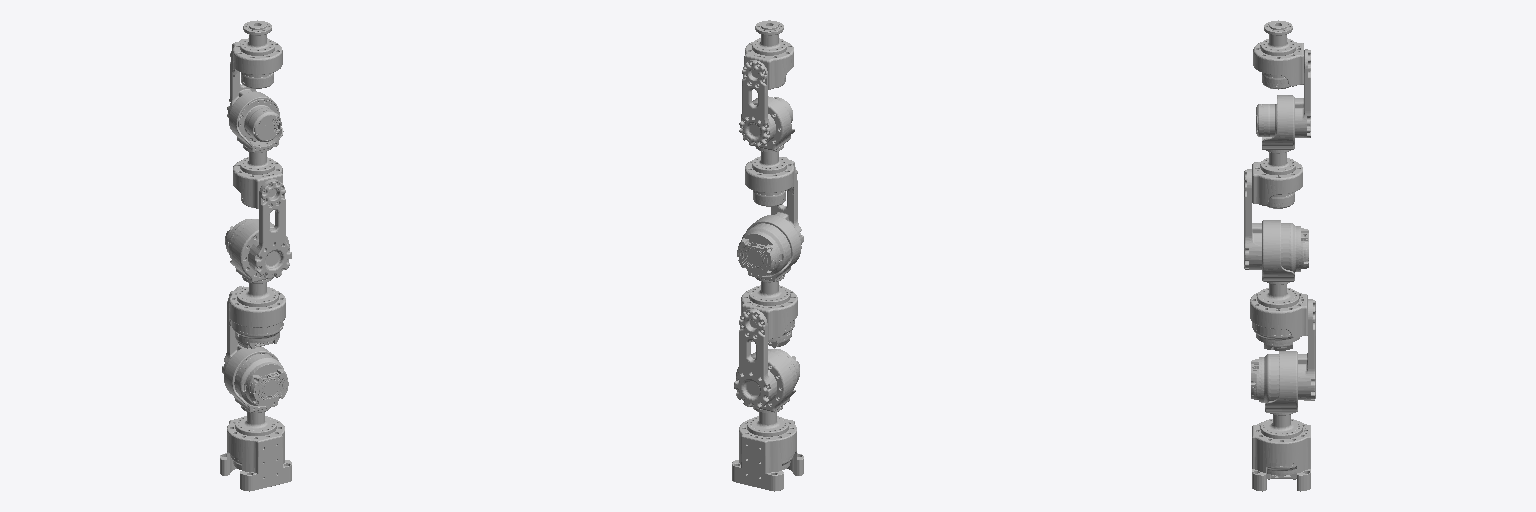
The robot description file, URDF, robot "v73":
<?xml version="1.0" encoding="utf-8"?>
<!-- This URDF was automatically created by SolidWorks to URDF Exporter! Originally created by [author] ([email redacted]) 
     Commit Version: 1.6.0-1-g15f4949  Build Version: 1.6.7594.29634
     For more information, please see http://wiki.ros.org/sw_urdf_exporter -->
<robot
  name="v73">
  <link
    name="base_link">
    <inertial>
      <origin
        xyz="-6.81488676239284E-08 -2.52771949068807E-05 0.0421574765285959"
        rpy="0 0 0" />
      <mass
        value="0.126528900342696" />
      <inertia
        ixx="0.00023645920808511"
        ixy="-2.96508255106793E-10"
        ixz="4.22447214171758E-12"
        iyy="0.000186038701581783"
        iyz="1.18684222600256E-07"
        izz="0.000248653814949551" />
    </inertial>
    <visual>
      <origin
        xyz="0 0 0"
        rpy="0 0 0" />
      <geometry>
        <mesh
          filename="package://v73/meshes/base_link.STL" />
      </geometry>
      <material
        name="">
        <color
          rgba="0.752941176470588 0.752941176470588 0.752941176470588 1" />
      </material>
    </visual>
    <collision>
      <origin
        xyz="0 0 0"
        rpy="0 0 0" />
      <geometry>
        <mesh
          filename="package://v73/meshes/base_link.STL" />
      </geometry>
    </collision>
  </link>
  <link
    name="1_Link">
    <inertial>
      <origin
        xyz=" -0.0000   -0.0034    0.0773"
        rpy="0 0 0" />
      <mass
        value="1.2186" />
      <inertia
        ixx="  0.0013"
        ixy="     0.0000"
        ixz="    -0.0000"
        iyy="     0.0014"
        iyz="    -0.0007"
        izz="     0.0009"/>
    </inertial>
    <visual>
      <origin
        xyz="0 0 0"
        rpy="0 0 0" />
      <geometry>
        <mesh
          filename="package://v73/meshes/j1_Link.STL" />
      </geometry>
      <material
        name="">
        <color
          rgba="0.752941176470588 0.752941176470588 0.752941176470588 1" />
      </material>
    </visual>
    <collision>
      <origin
        xyz="0 0 0"
        rpy="0 0 0" />
      <geometry>
        <mesh
          filename="package://v73/meshes/j1_Link.STL" />
      </geometry>
    </collision>
  </link>
  <joint
    name="1_name"
    type="continuous">
    <origin
      xyz="0 0 0.08450000000001"
      rpy="0 0 0" />
    <parent
      link="base_link" />
    <child
      link="1_Link" />
    <axis
      xyz="0 0 1" />
  </joint>
  <link
    name="2_Link">
    <inertial>
      <origin
        xyz="-0.0000   -0.0220    0.0920"
        rpy="0 0 0" />
      <mass
        value="1.3974" />
      <inertia
        ixx="0.0031"
        ixy="    0.0000"
        ixz="   -0.0000"
        iyy="    0.0026"
        iyz="   -0.0064"
        izz="    0.0015"/>
    </inertial>
    <visual>
      <origin
        xyz="0 0 0"
        rpy="0 0 0" />
      <geometry>
        <mesh
          filename="package://v73/meshes/j2_Link.STL" />
      </geometry>
      <material
        name="">
        <color
          rgba="0.752941176470588 0.752941176470588 0.752941176470588 1" />
      </material>
    </visual>
    <collision>
      <origin
        xyz="0 0 0"
        rpy="0 0 0" />
      <geometry>
        <mesh
          filename="package://v73/meshes/j2_Link.STL" />
      </geometry>
    </collision>
  </link>
  <joint
    name="2_name"
    type="continuous">
    <origin
      xyz="0 0.02750000000001 0.08399999999909"
      rpy="0 0 0" />
    <parent
      link="1_Link" />
    <child
      link="2_Link" />
    <axis
      xyz="0 1 0" />
  </joint>
  <link
    name="3_Link">
    <inertial>
      <origin
        xyz="-0.0000    0.0034    0.0776"
        rpy="0 0 0" />
      <mass
        value="1.2186" />
      <inertia
        ixx=" 0.0013"
        ixy="   -0.0000"
        ixz="   -0.0000"
        iyy="    0.0014"
        iyz="    0.0007"
        izz="    0.0009"/>
    </inertial>
    <visual>
      <origin
        xyz="0 0 0"
        rpy="0 0 0" />
      <geometry>
        <mesh
          filename="package://v73/meshes/j3_Link.STL" />
      </geometry>
      <material
        name="">
        <color
          rgba="0.752941176470588 0.752941176470588 0.752941176470588 1" />
      </material>
    </visual>
    <collision>
      <origin
        xyz="0 0 0"
        rpy="0 0 0" />
      <geometry>
        <mesh
          filename="package://v73/meshes/j3_Link.STL" />
      </geometry>
    </collision>
  </link>
  <joint
    name="3_name"
    type="continuous">
    <origin
      xyz="0 -0.0325 0.1375000000001"
      rpy="0 0 0" />
    <parent
      link="2_Link" />
    <child
      link="3_Link" />
    <axis
      xyz="0 0 1" />
  </joint>
  <link
    name="4_Link">
    <inertial>
      <origin
        xyz=" 0.0000   -0.0145    0.0918"
        rpy="0 0 0" />
      <mass
        value="0.9495" />
      <inertia
        ixx=" 0.0025"
        ixy="   -0.0000"
        ixz="    0.0000"
        iyy="    0.0022"
        iyz="   -0.0032"
        izz="    0.0008"/>
    </inertial>
    <visual>
      <origin
        xyz="0 0 0"
        rpy="0 0 0" />
      <geometry>
        <mesh
          filename="package://v73/meshes/j4_Link.STL" />
      </geometry>
      <material
        name="">
        <color
          rgba="0.752941176470588 0.752941176470588 0.752941176470588 1" />
      </material>
    </visual>
    <collision>
      <origin
        xyz="0 0 0"
        rpy="0 0 0" />
      <geometry>
        <mesh
          filename="package://v73/meshes/j4_Link.STL" />
      </geometry>
    </collision>
  </link>
  <joint
    name="4_name"
    type="continuous">
    <origin
      xyz="0 -0.0275000000002227 0.0839999999998857"
      rpy="0 0 0" />
    <parent
      link="3_Link" />
    <child
      link="4_Link" />
    <axis
      xyz="0 -1 0" />
  </joint>
  <link
    name="5_Link">
    <inertial>
      <origin
        xyz=" 0.0000    0.0029    0.0702"
        rpy="0 0 0" />
      <mass
        value="0.7731" />
      <inertia
        ixx="0.6862e-03"
        ixy="   -0.0007e-03"
        ixz="    0.0046e-03"
        iyy="    0.7288e-03"
        iyz="    0.3396e-03"
        izz="    0.3928e-03"/>
    </inertial>
    <visual>
      <origin
        xyz="0 0 0"
        rpy="0 0 0" />
      <geometry>
        <mesh
          filename="package://v73/meshes/j5_Link.STL" />
      </geometry>
      <material
        name="">
        <color
          rgba="0.752941176470588 0.752941176470588 0.752941176470588 1" />
      </material>
    </visual>
    <collision>
      <origin
        xyz="0 0 0"
        rpy="0 0 0" />
      <geometry>
        <mesh
          filename="package://v73/meshes/j5_Link.STL" />
      </geometry>
    </collision>
  </link>
  <joint
    name="5_name"
    type="continuous">
    <origin
      xyz="0 0.0275000000001797 0.138996210594914"
      rpy="0 0 0" />
    <parent
      link="4_Link" />
    <child
      link="5_Link" />
    <axis
      xyz="0 0 1" />
  </joint>
  <link
    name="6_Link">
    <inertial>
      <origin
        xyz=" 0.0000   -0.0174    0.0848"
        rpy="0 0 0" />
      <mass
        value="0.8716" />
      <inertia
        ixx=" 0.0016"
        ixy="   -0.0000"
        ixz="    0.0000"
        iyy="    0.0014"
        iyz="   -0.0030"
        izz="    0.0007" />
    </inertial>
    <visual>
      <origin
        xyz="0 0 0"
        rpy="0 0 0" />
      <geometry>
        <mesh
          filename="package://v73/meshes/j6_Link.STL" />
      </geometry>
      <material
        name="">
        <color
          rgba="0.752941176470588 0.752941176470588 0.752941176470588 1" />
      </material>
    </visual>
    <collision>
      <origin
        xyz="0 0 0"
        rpy="0 0 0" />
      <geometry>
        <mesh
          filename="package://v73/meshes/j6_Link.STL" />
      </geometry>
    </collision>
  </link>
  <joint
    name="6_name"
    type="continuous">
    <origin
      xyz="0 0.0275999999981546 0.0785000000013523"
      rpy="0 0 0" />
    <parent
      link="5_Link" />
    <child
      link="6_Link" />
    <axis
      xyz="0 1 0" />
  </joint>
  <link
    name="7_Link">
    <inertial>
      <origin
        xyz=" 0         0    0.0174"
        rpy="0 0 0" />
      <mass
        value="0.0846" />
      <inertia
        ixx="0.2513e-04"
        ixy="         0e-04"
        ixz="         0e-04"
        iyy="    0.2513e-04"
        iyz="         0e-04"
        izz="    0.2202e-04"/>
    </inertial>
    <visual>
      <origin
        xyz="0 0 0"
        rpy="0 0 0" />
      <geometry>
        <mesh
          filename="package://v73/meshes/j7_Link.STL" />
      </geometry>
      <material
        name="">
        <color
          rgba="0.752941176470588 0.752941176470588 0.752941176470588 1" />
      </material>
    </visual>
    <collision>
      <origin
        xyz="0 0 0"
        rpy="0 0 0" />
      <geometry>
        <mesh
          filename="package://v73/meshes/j7_Link.STL" />
      </geometry>
    </collision>
  </link>
  <joint
    name="7_name"
    type="continuous">
    <origin
      xyz="0 -0.0275999999991848 0.123599999999348"
      rpy="0 0 0" />
    <parent
      link="6_Link" />
    <child
      link="7_Link" />
    <axis
      xyz="0 0 1" />
  </joint>
</robot>

--- What the picture shows (computed from the rendered views, not written in the file) ---
The picture shows the robot from 3 angles, left to right: view 1: azimuth 30°, elevation 25°; view 2: azimuth 150°, elevation 25°; view 3: azimuth 270°, elevation 25°; orthographic projection.
Robot: v73 — 8 links, 7 joints (7 continuous); root link base_link; default pose: every joint at zero.
Links seen in each view (by area): view 1: 1_Link, 4_Link, base_link, 5_Link, 2_Link, 3_Link, 6_Link, 7_Link; view 2: 2_Link, 3_Link, base_link, 6_Link, 1_Link, 4_Link, 5_Link, 7_Link; view 3: 2_Link, 3_Link, 1_Link, base_link, 4_Link, 6_Link, 5_Link, 7_Link.
Link boxes in pixels (x1,y1,x2,y2): 1_Link: (224,346,288,435); 4_Link: (233,161,291,278); base_link: (220,418,291,491); 5_Link: (229,91,283,174); 2_Link: (222,286,285,373); 3_Link: (225,219,289,306); 6_Link: (227,39,282,117); 7_Link: (240,20,274,55); 2_Link: (734,289,797,408); 3_Link: (737,215,801,305); base_link: (732,419,803,491); 6_Link: (739,42,793,146); 1_Link: (736,348,799,436); 4_Link: (745,157,803,244); 5_Link: (741,96,794,173); 7_Link: (752,20,786,55); 2_Link: (1250,292,1315,400); 3_Link: (1257,220,1308,308); 1_Link: (1251,351,1302,438); base_link: (1252,421,1310,491); 4_Link: (1244,161,1302,269); 6_Link: (1253,42,1310,137); 5_Link: (1256,95,1295,175); 7_Link: (1260,20,1295,55).
Bounding box of the posed robot: 0.09 × 0.109 × 0.7696 m (x, y, z).
Meshes: 8 distinct files referenced, 8 mesh visuals loaded (8 binary STL).